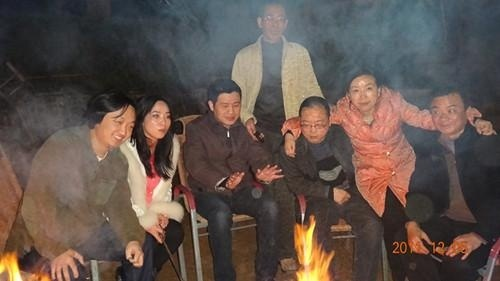fire: (291, 216, 336, 281)
